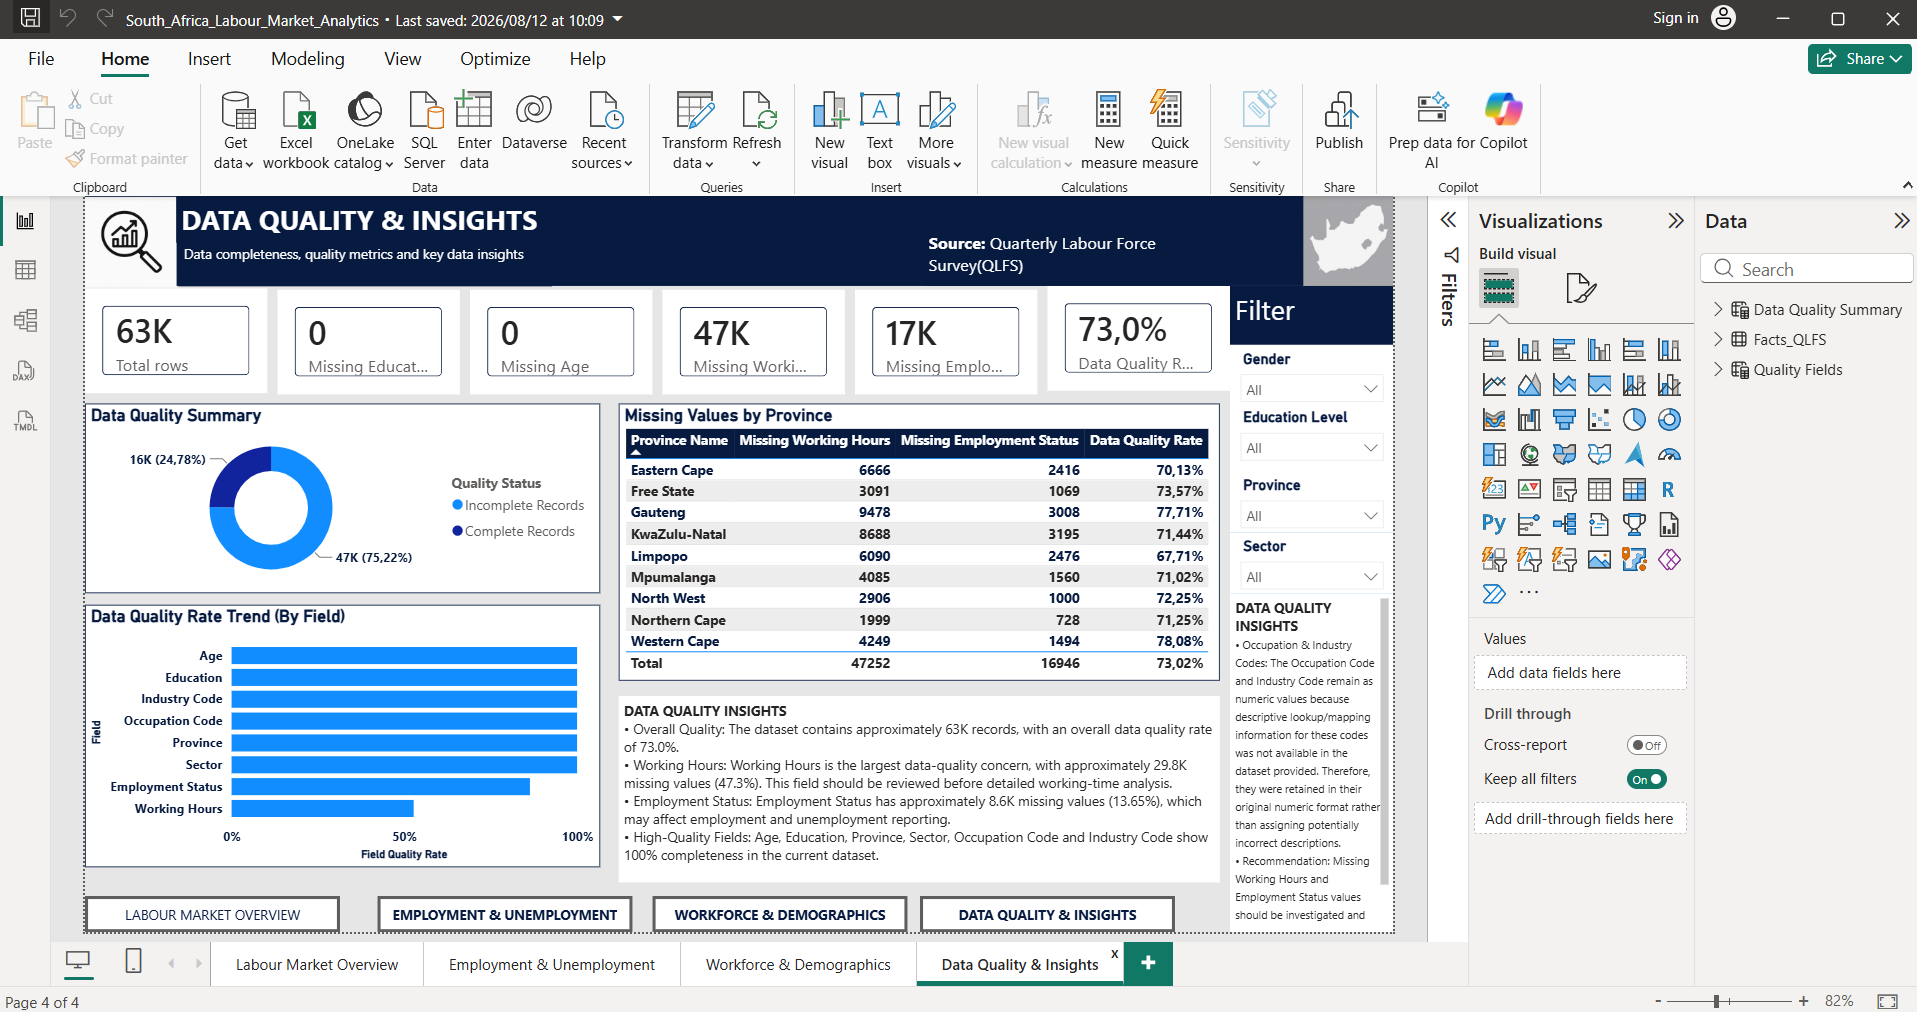

This screenshot's page, from the dashboard's own definition file:
{"tool":"powerbi","page":{"name":"Data Quality & Insights","canvas":[1280,720],"ordinal":3},"visuals":[{"type":"cardVisual","fields":{"Data":["Facts_QLFS.Total rows"]},"box":[0,90.5,178,102],"z":0},{"type":"cardVisual","fields":{"Data":["Facts_QLFS.Missing Age"]},"box":[376.6,91.7,178,102],"z":1000},{"type":"cardVisual","fields":{"Data":["Facts_QLFS.Missing Working Hours"]},"box":[564.9,91.7,178,102],"z":2000},{"type":"cardVisual","fields":{"Data":["Facts_QLFS.Missing Education"]},"box":[188.3,91.7,178,102],"z":3000},{"type":"cardVisual","fields":{"Data":["Facts_QLFS.Missing Employment Status"]},"box":[753.3,91.7,178,102],"z":4000},{"type":"cardVisual","fields":{"Data":["Facts_QLFS.Data Quality Rate"]},"box":[941.6,88,178.5,102.7],"z":5000},{"type":"shape","box":[0,0,1280.3,88],"z":6000},{"type":"image","box":[0,0,89.3,90.5],"z":7000},{"type":"textbox","box":[89.3,0,392.5,45.2],"z":8000},{"type":"textbox","box":[91.7,42.8,364.4,45.2],"z":9000},{"type":"tableEx","title":"Missing Values by Province","fields":{"Values":["Facts_QLFS.Province Name","Facts_QLFS.Missing Working Hours","Facts_QLFS.Missing Employment Status","Facts_QLFS.Data Quality Rate"]},"box":[522.1,203,588.2,271.5],"z":10000},{"type":"donutChart","title":"Data Quality Summary","fields":{"Category":["Data Quality Summary.Quality Status"],"Y":["Data Quality Summary.Data Quality Count"]},"box":[0,203,503.8,185.9],"z":11000},{"type":"clusteredBarChart","title":"Data Quality Rate Trend (By Field)","fields":{"Category":["Quality Fields.Field"],"Y":["Quality Fields.Field Quality Rate"]},"box":[0,399.9,503.8,256.8],"z":12000},{"type":"shape","box":[1120.1,88,160.2,300.8],"z":13000},{"type":"image","box":[1191,0,89.3,88],"z":14000},{"type":"textbox","box":[1120.1,88,160.2,59.9],"z":15000},{"type":"slicer","fields":{"Values":["Facts_QLFS.Gender Name"]},"box":[1120.1,145.5,160.2,62.4],"z":16000},{"type":"slicer","fields":{"Values":["Facts_QLFS.Education Status Name"]},"box":[1120.1,203,160.2,67.3],"z":17000},{"type":"slicer","fields":{"Values":["Facts_QLFS.Province Name"]},"box":[1120.1,269,160.2,59.9],"z":18000},{"type":"slicer","fields":{"Values":["Facts_QLFS.Sector Name"]},"box":[1120.1,328.9,160.2,59.9],"z":19000},{"type":"actionButton","box":[0,684.8,249.5,35.5],"z":20000},{"type":"actionButton","box":[286.1,684.8,249.5,35.5],"z":21000},{"type":"actionButton","box":[555.2,684.8,249.5,35.5],"z":22000},{"type":"actionButton","box":[816.9,684.8,249.5,35.5],"z":23000},{"type":"textbox","box":[522.1,489.1,588.2,182.2],"z":24000},{"type":"textbox","box":[1120.1,388.9,160.2,331.4],"z":25000},{"type":"textbox","box":[820.5,29.3,299.6,58.7],"z":26000}]}

Visuals, with their boxes on the page's 1280x720 design canvas (x1, y1, x2, y2). These are canvas units, not pixel positions in the 1917x1012 screenshot, which may show the page scaled, cropped or inside an application window:
cardVisual - Facts_QLFS.Total rows: <bbox>0, 90, 178, 192</bbox>
cardVisual - Facts_QLFS.Missing Age: <bbox>377, 92, 555, 194</bbox>
cardVisual - Facts_QLFS.Missing Working Hours: <bbox>565, 92, 743, 194</bbox>
cardVisual - Facts_QLFS.Missing Education: <bbox>188, 92, 366, 194</bbox>
cardVisual - Facts_QLFS.Missing Employment Status: <bbox>753, 92, 931, 194</bbox>
cardVisual - Facts_QLFS.Data Quality Rate: <bbox>942, 88, 1120, 191</bbox>
shape: <bbox>0, 0, 1280, 88</bbox>
image: <bbox>0, 0, 89, 90</bbox>
textbox: <bbox>89, 0, 482, 45</bbox>
textbox: <bbox>92, 43, 456, 88</bbox>
"Missing Values by Province" tableEx: <bbox>522, 203, 1110, 474</bbox>
"Data Quality Summary" donutChart: <bbox>0, 203, 504, 389</bbox>
"Data Quality Rate Trend (By Field)" clusteredBarChart: <bbox>0, 400, 504, 657</bbox>
shape: <bbox>1120, 88, 1280, 389</bbox>
image: <bbox>1191, 0, 1280, 88</bbox>
textbox: <bbox>1120, 88, 1280, 148</bbox>
slicer - Facts_QLFS.Gender Name: <bbox>1120, 146, 1280, 208</bbox>
slicer - Facts_QLFS.Education Status Name: <bbox>1120, 203, 1280, 270</bbox>
slicer - Facts_QLFS.Province Name: <bbox>1120, 269, 1280, 329</bbox>
slicer - Facts_QLFS.Sector Name: <bbox>1120, 329, 1280, 389</bbox>
actionButton: <bbox>0, 685, 250, 720</bbox>
actionButton: <bbox>286, 685, 536, 720</bbox>
actionButton: <bbox>555, 685, 805, 720</bbox>
actionButton: <bbox>817, 685, 1066, 720</bbox>
textbox: <bbox>522, 489, 1110, 671</bbox>
textbox: <bbox>1120, 389, 1280, 720</bbox>
textbox: <bbox>820, 29, 1120, 88</bbox>
